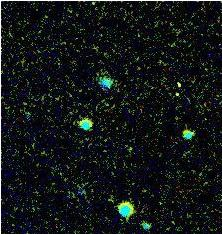star: (164, 87, 194, 117)
